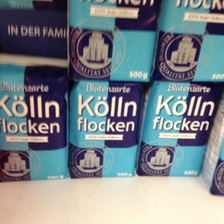cereal: (1, 69, 69, 183), (141, 79, 218, 177), (70, 77, 141, 179), (71, 1, 150, 80), (156, 1, 222, 82)
